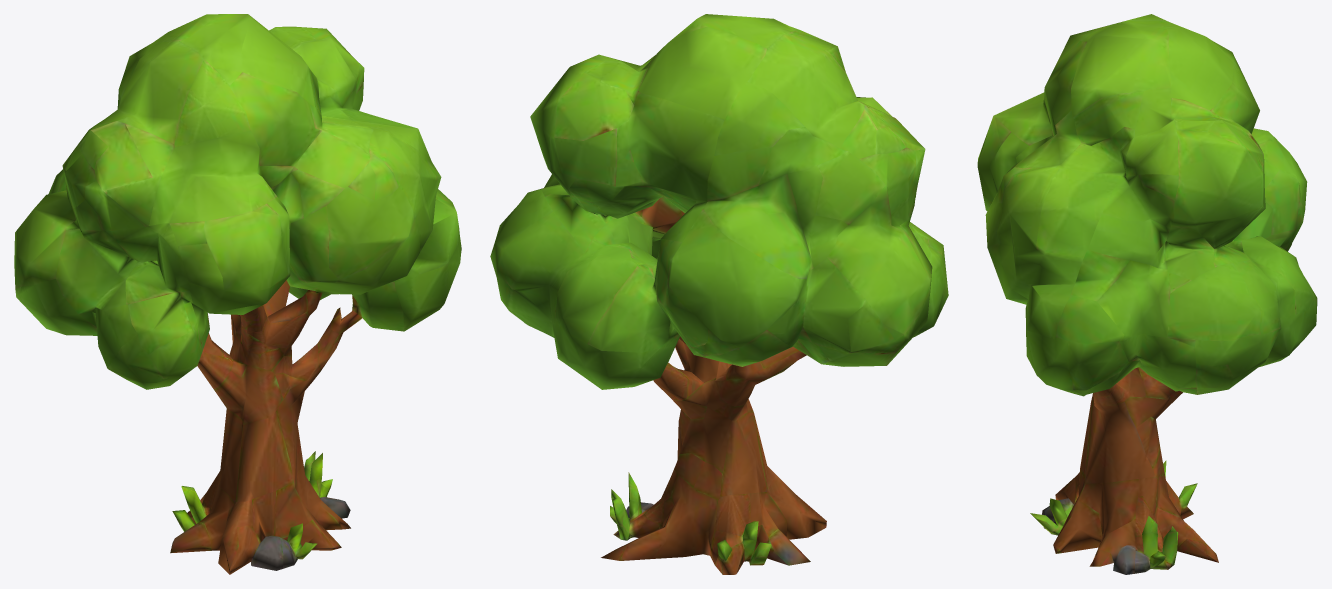
The model's file is tree.glb.
3 renders of one model, left to right at view 1: azimuth 30°, elevation 25°; view 2: azimuth 150°, elevation 25°; view 3: azimuth 270°, elevation 25°, orthographic. The views are drawn at different scales.
Visible parts, largest first — view 1: mesh_node; view 2: mesh_node; view 3: mesh_node.
Part boxes in pixels (x1,y1,x2,y2): mesh_node: [14, 14, 461, 574]; mesh_node: [490, 14, 948, 574]; mesh_node: [977, 14, 1317, 574].
Size of the model in its own units: 1.55 by 1.9 by 1.19.
Materials: 1 (1 with a texture image).
